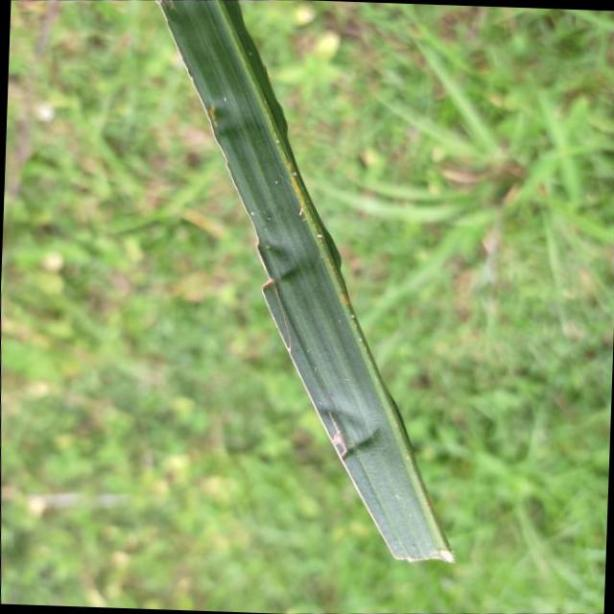Boron: (154, 0, 455, 567)
